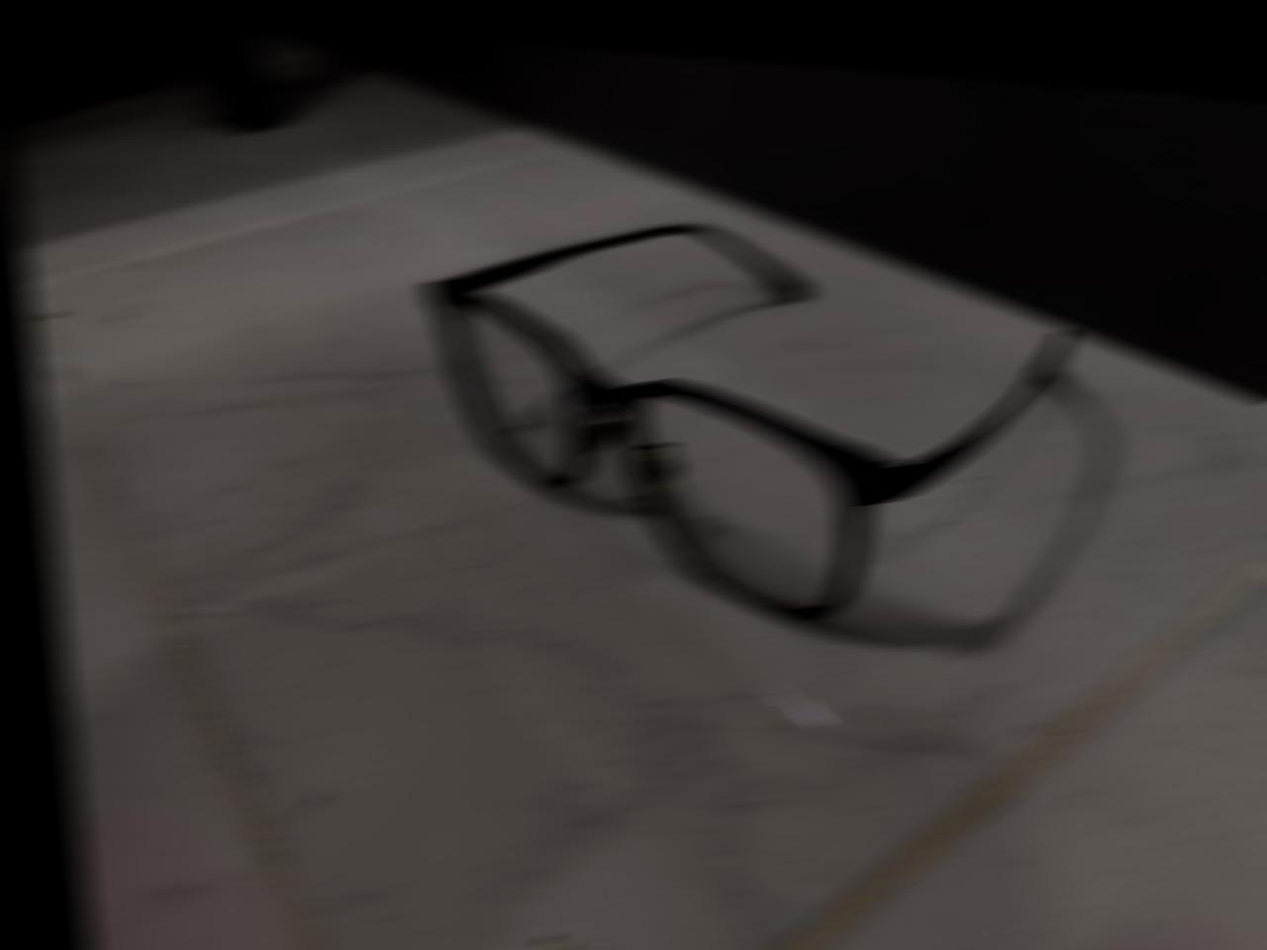glasses: (389, 191, 1112, 658)
